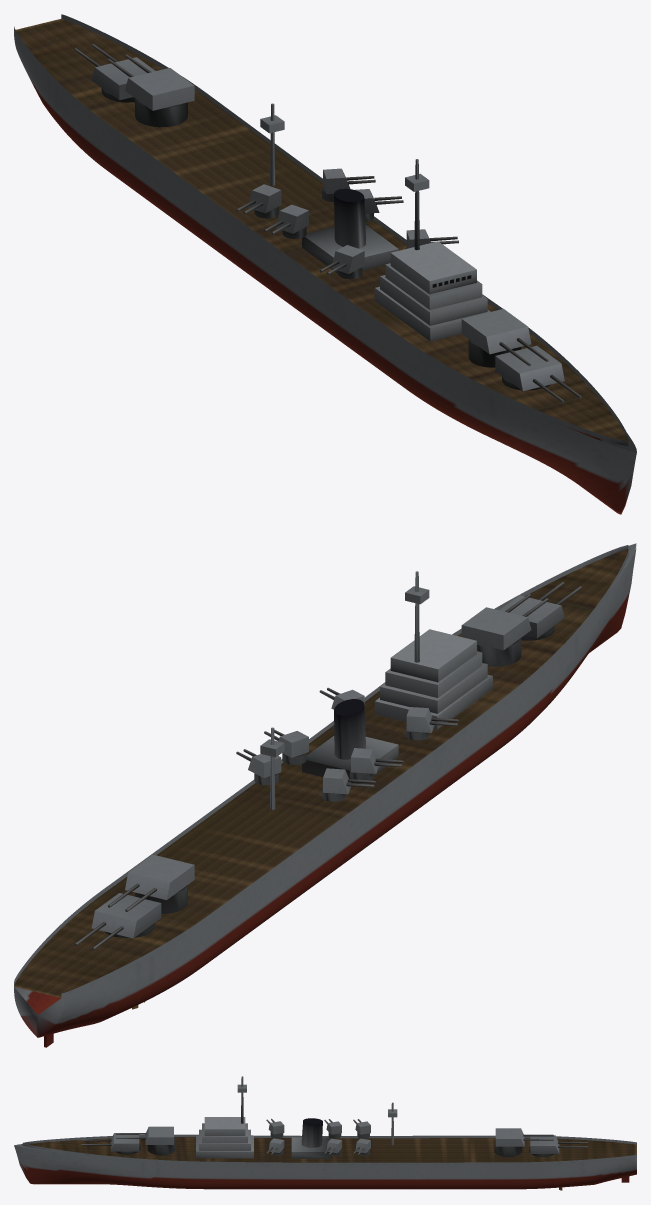
Rendered from model_built.glb.
3 renders of one model, top to bottom at view 1: azimuth 30°, elevation 25°; view 2: azimuth 150°, elevation 25°; view 3: azimuth 270°, elevation 25°, orthographic. The views are drawn at different scales.
Parts seen in each view (by area): view 1: main; view 2: main; view 3: main.
Boxes of the visible parts, x1,y1,x2,y2 form: main: (14, 14, 636, 514); main: (14, 543, 636, 1047); main: (14, 1076, 636, 1190).
Bounding box in the file's own units: 28.6 × 41.39 × 216.
2 materials, 2 textured.
